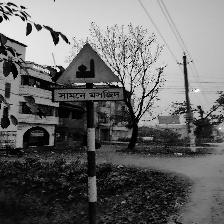Mosque in front: (54, 43, 124, 104)
